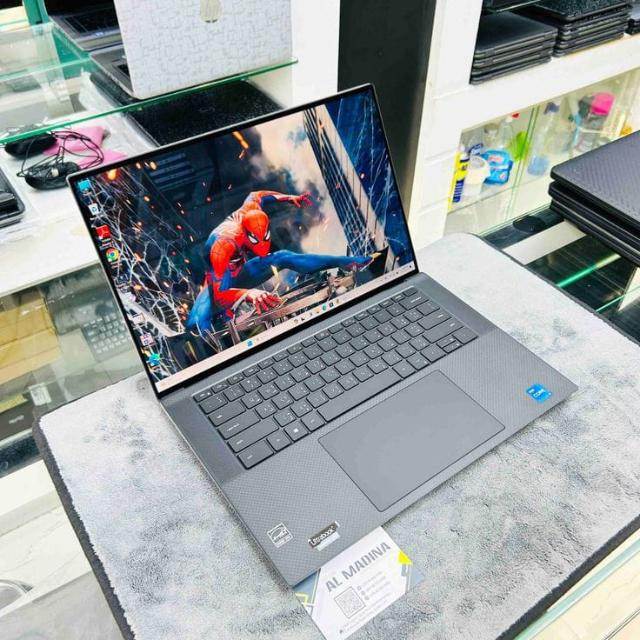laptop: (61, 68, 560, 588)
